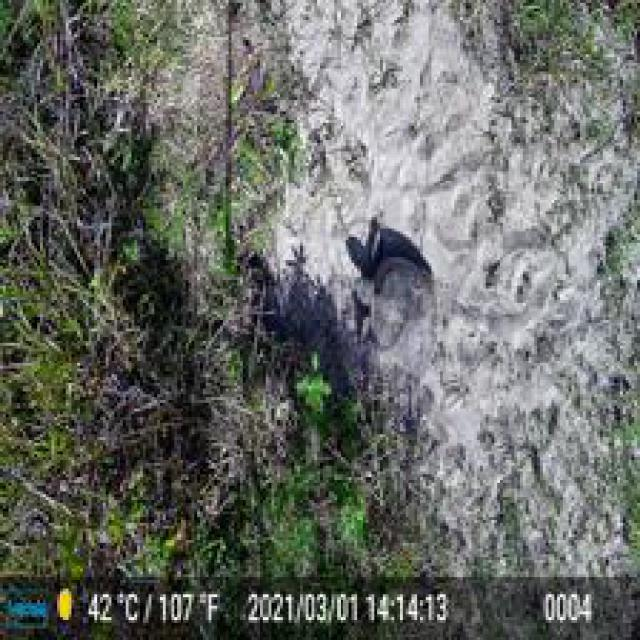tortoise: (346, 226, 440, 386)
